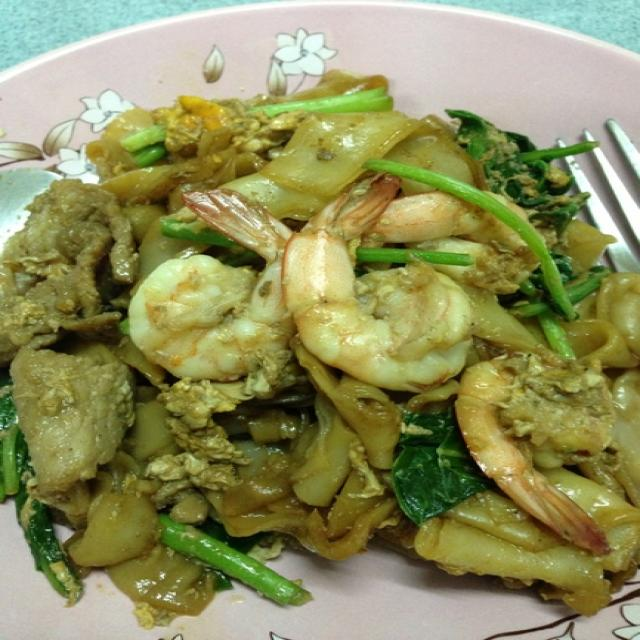面条主食: (25, 67, 602, 621)
